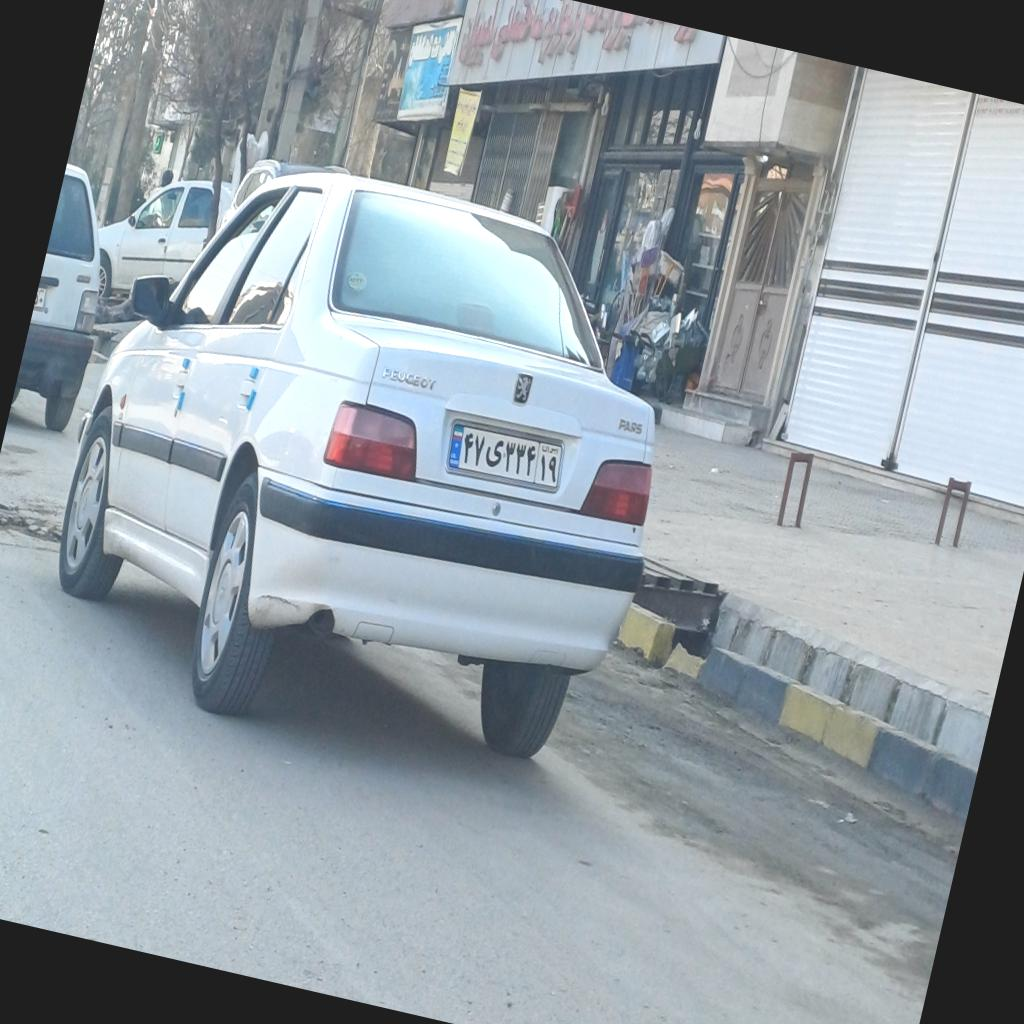Plates: (440, 418, 570, 497)
